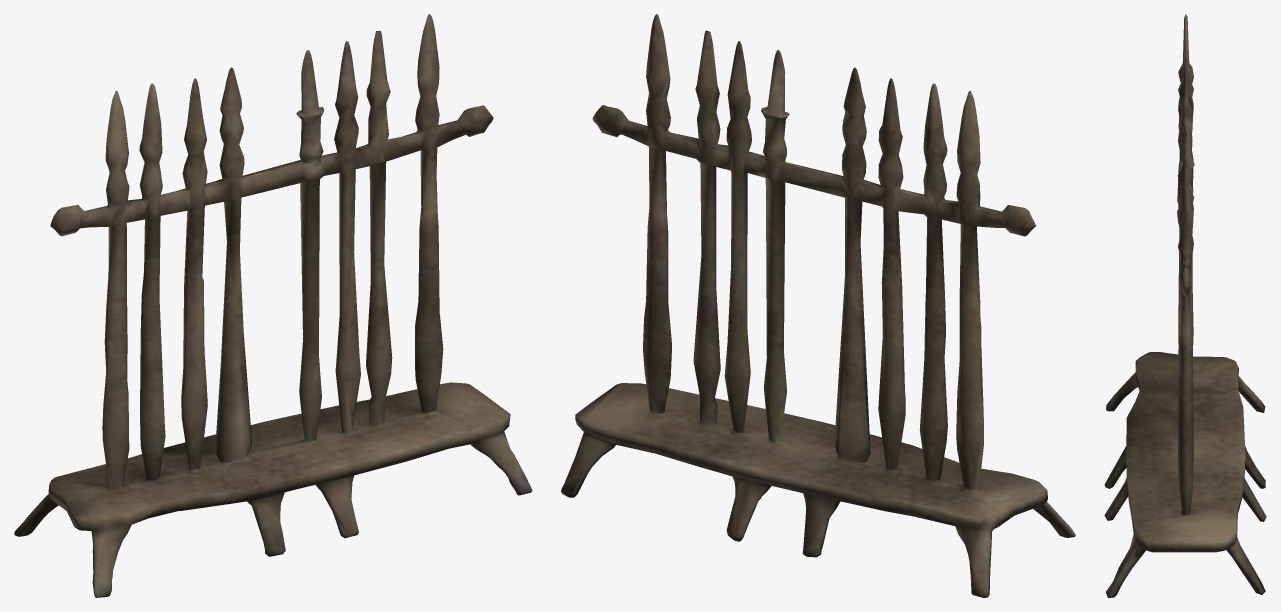
Rendered from ancient-wood-weapon-rack-v001.glb.
3 renders of one model, left to right at view 1: azimuth 30°, elevation 25°; view 2: azimuth 150°, elevation 25°; view 3: azimuth 270°, elevation 25°, orthographic. The views are drawn at different scales.
Parts seen in each view (by area): view 1: ancient-wood-weapon-rack; view 2: ancient-wood-weapon-rack; view 3: ancient-wood-weapon-rack.
Boxes of the visible parts, x1,y1,x2,y2 form: ancient-wood-weapon-rack: (14,14,532,597); ancient-wood-weapon-rack: (561,14,1075,597); ancient-wood-weapon-rack: (1104,14,1266,597).
Size of the model in its own units: 1.72 by 1.72 by 0.5989.
1 material, 1 textured.
